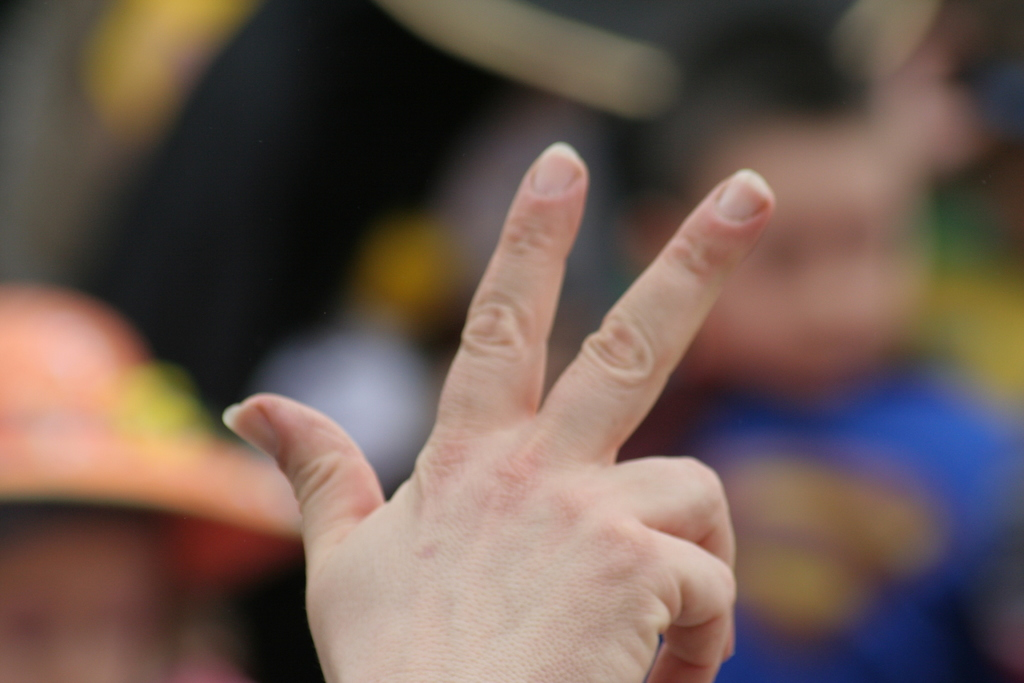Human_hand: (222, 141, 776, 683)
